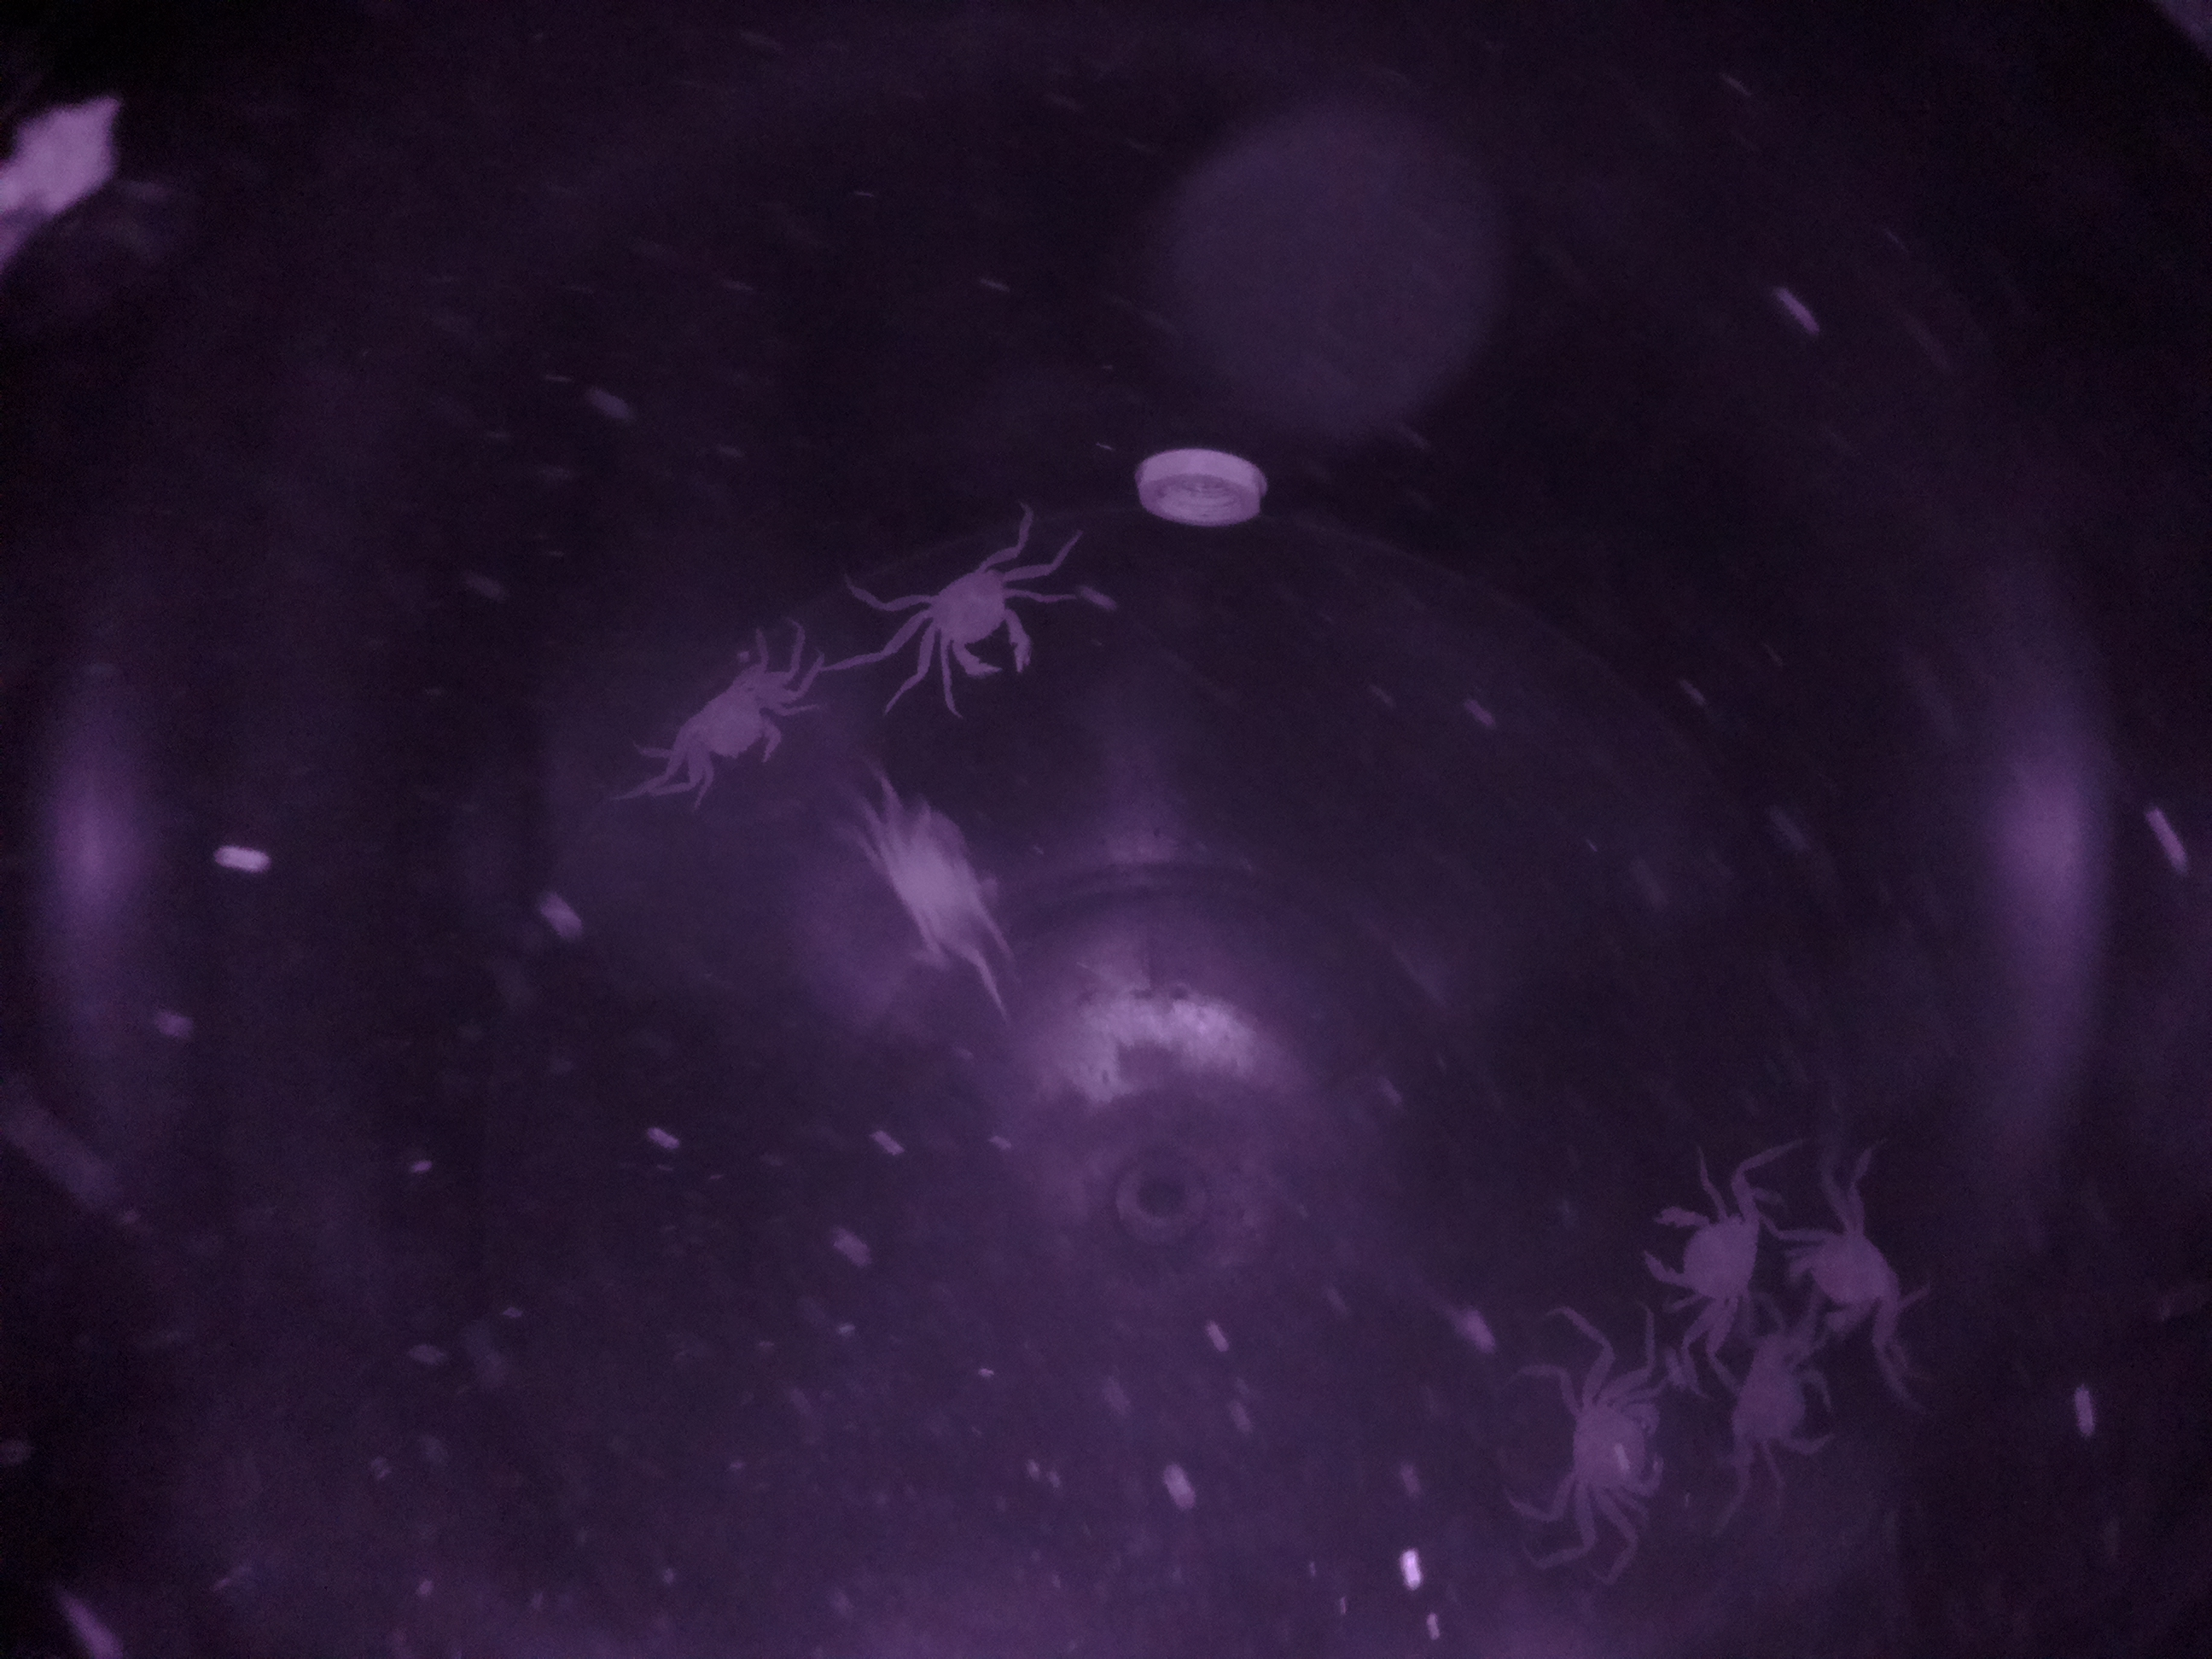Crab: (907, 538, 1049, 702), (1555, 1356, 1681, 1534), (1637, 1182, 1775, 1321)
